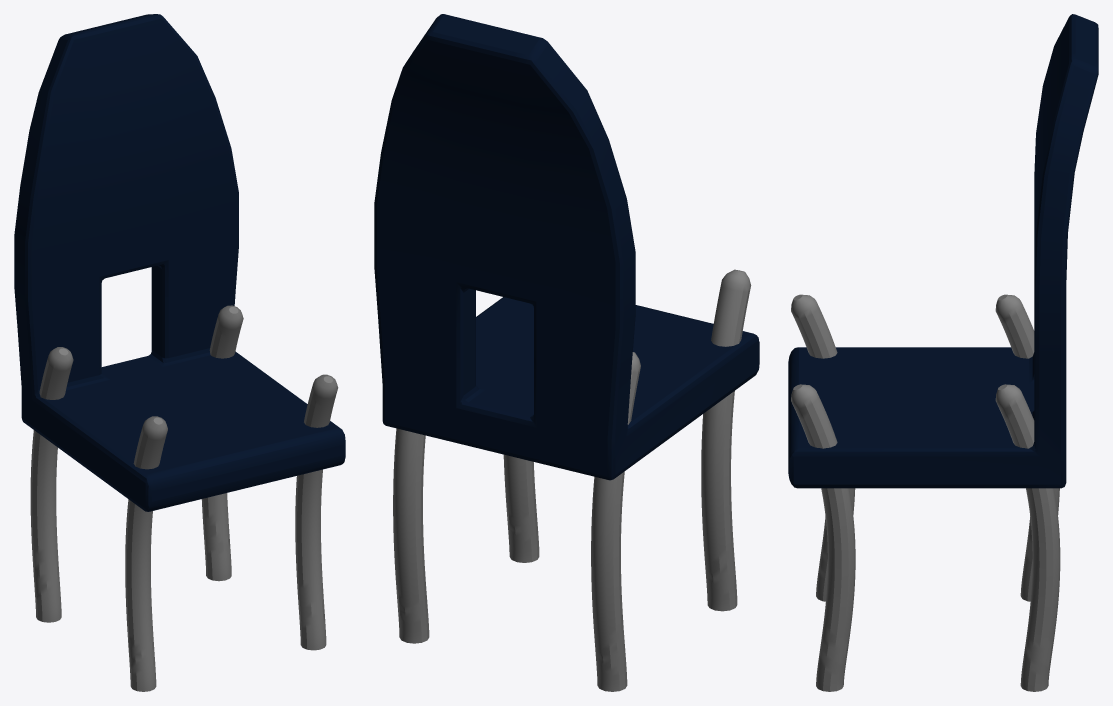
Rendered from chair19.fbx.
3 renders of one model, left to right at view 1: azimuth 30°, elevation 25°; view 2: azimuth 150°, elevation 25°; view 3: azimuth 270°, elevation 25°, orthographic. The views are drawn at different scales.
Visible parts, largest first — view 1: Chair19; view 2: Chair19; view 3: Chair19.
Boxes of the visible parts, x1,y1,x2,y2 form: Chair19: (14,14,345,691); Chair19: (374,14,759,691); Chair19: (788,14,1098,691).
Size of the model in its own units: 49.34 by 123 by 57.35.
